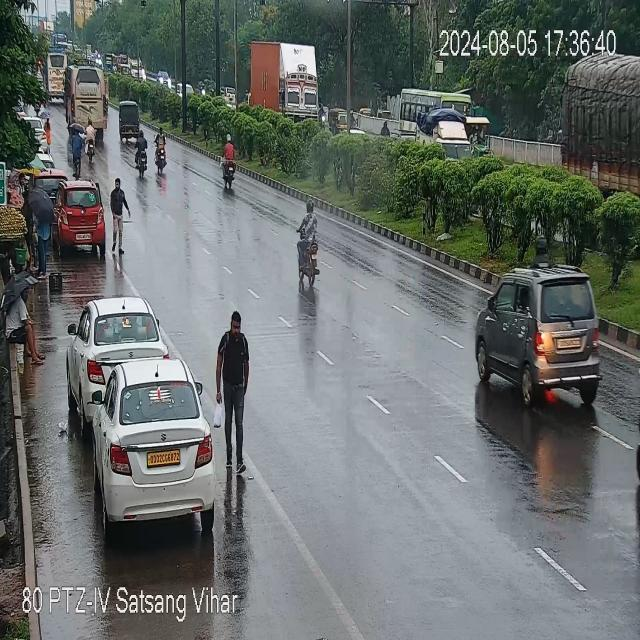2-wheelers: (286, 204, 328, 288), (217, 136, 241, 190), (150, 130, 174, 174), (132, 130, 152, 174), (85, 114, 94, 166), (72, 128, 80, 174)
auto: (116, 101, 144, 141)
bus: (60, 62, 113, 136), (401, 88, 468, 138)
car: (76, 362, 222, 533), (479, 266, 606, 406), (68, 298, 162, 399), (57, 185, 106, 248), (44, 167, 67, 193)
pedestrian: (218, 305, 253, 428), (4, 283, 44, 363), (25, 180, 55, 276), (109, 179, 128, 260), (43, 118, 51, 149)
truck: (559, 54, 637, 202), (241, 42, 325, 120), (416, 116, 467, 164)
